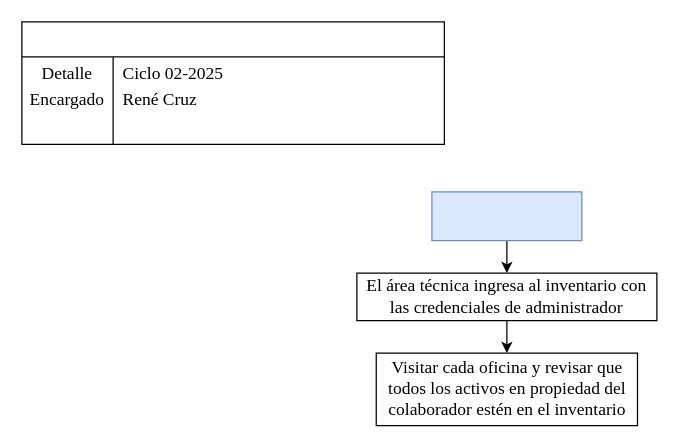
Image size: 679x448. Some labels were removed from this diagram. The shapes that lost their labels are listed below. From the top down, each one's box as (x1, y1, x2, y2) in pixels, then its label:
(21, 21, 444, 144): Actualización y revisión de inventario de forma mensual
(431, 191, 582, 241): Revisión mensual
